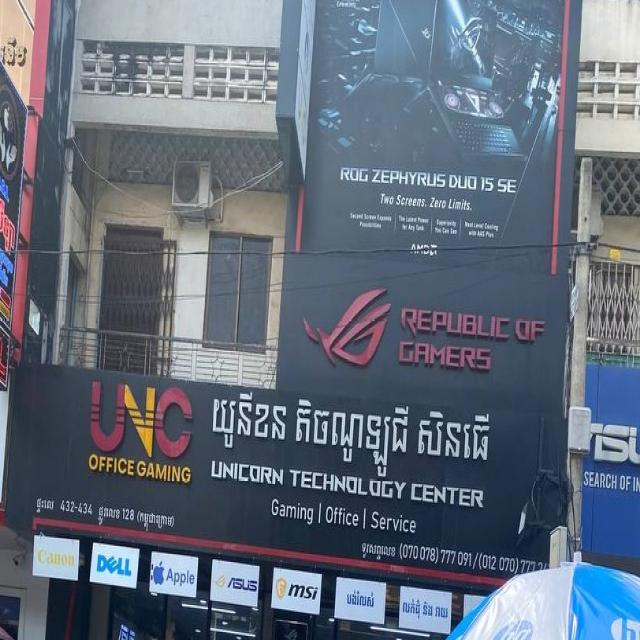2: (209, 382, 496, 493), (400, 589, 452, 629)
65: (35, 485, 182, 535)
Yolov11_80vkh: (360, 535, 398, 567), (346, 582, 377, 617)
